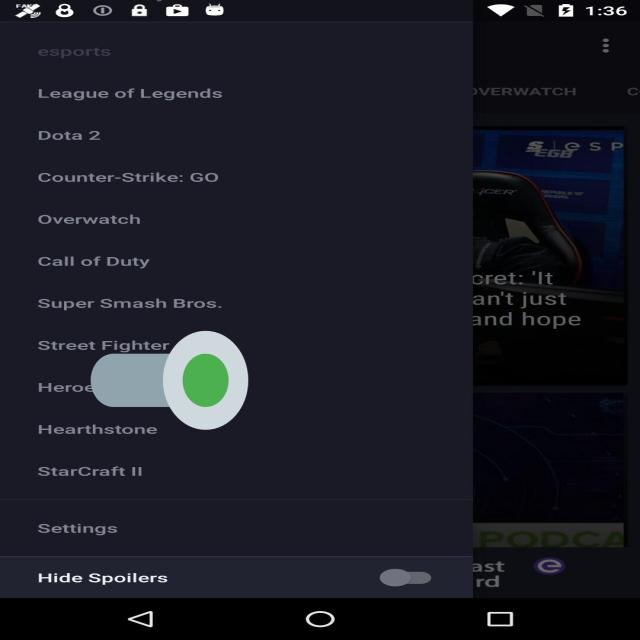social proof: (91, 289, 248, 472)
